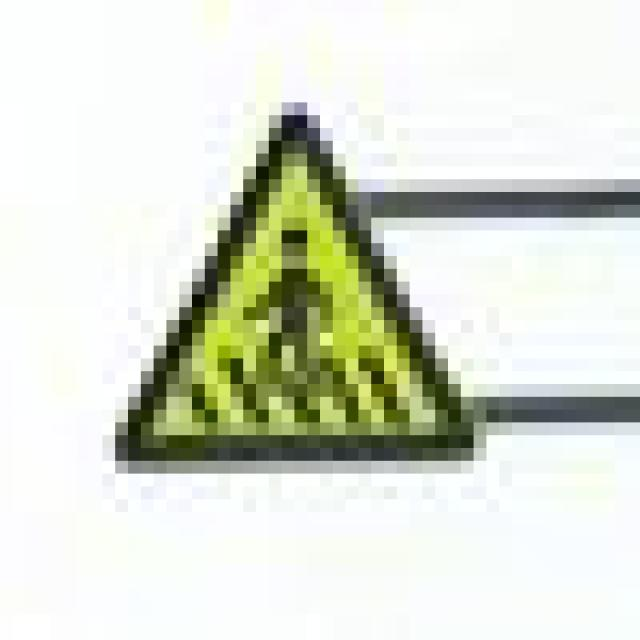pass_either_side: (102, 90, 474, 460)
